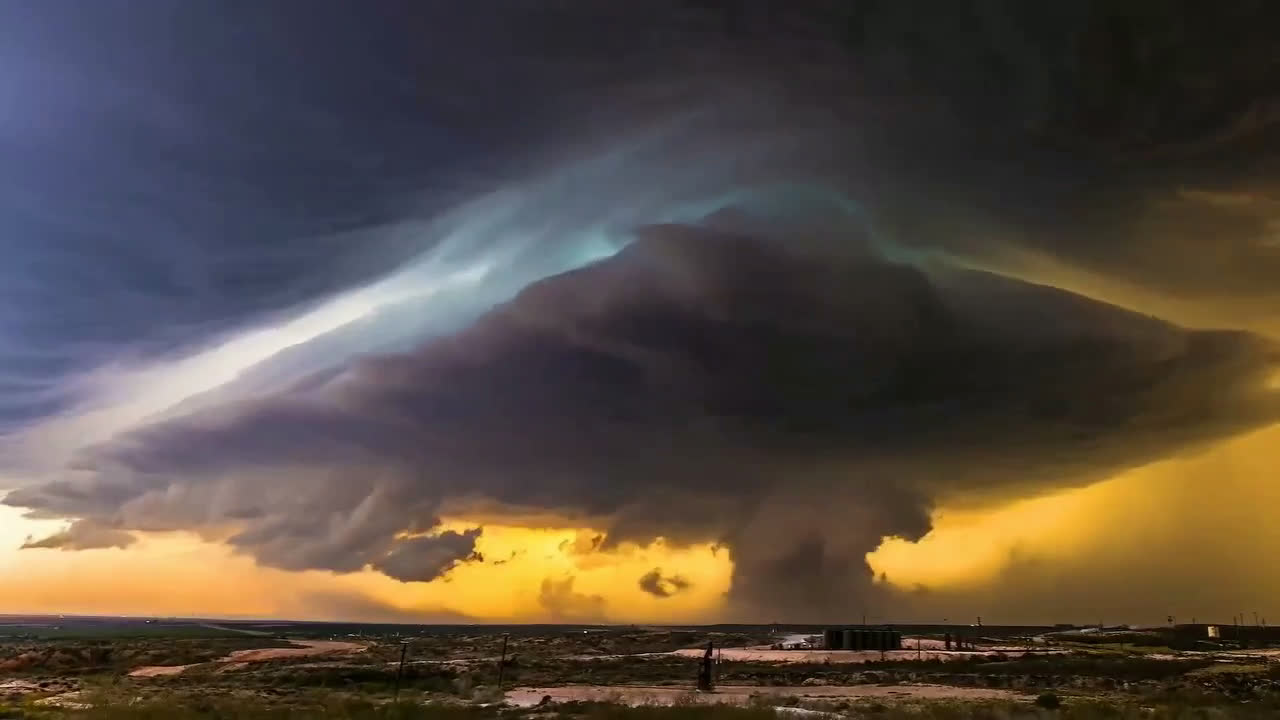RFD: (728, 430, 1278, 626)
mesocyclone: (2, 0, 1279, 523)
striations: (8, 329, 464, 520)
wall cloud: (6, 181, 1278, 581)
